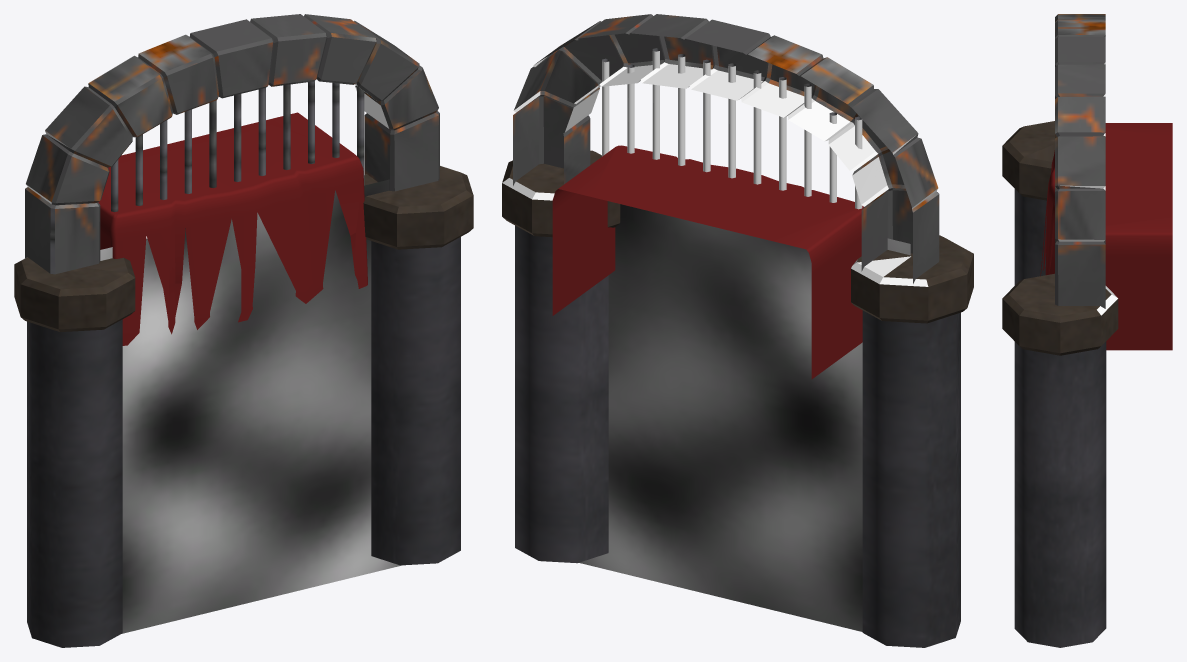
Rendered from Goal.fbx.
3 views of the same model, side by side, from view 1: azimuth 30°, elevation 25°; view 2: azimuth 150°, elevation 25°; view 3: azimuth 270°, elevation 25° (orthographic). The views are drawn at different scales.
Parts seen in each view (by area): view 1: Object015, Object016, Object017; view 2: Object015, Object016, Object017; view 3: Object015, Object017.
Boxes of the visible parts, x1,y1,x2,y2 form: Object015: (14, 14, 473, 647); Object016: (100, 179, 401, 633); Object017: (98, 112, 367, 345); Object015: (502, 14, 973, 647); Object016: (579, 204, 910, 631); Object017: (552, 145, 863, 379); Object015: (1002, 14, 1118, 647); Object017: (1040, 123, 1172, 350).
Size of the model in its own units: 192 by 230 by 68.32.
1 material, 1 textured.
